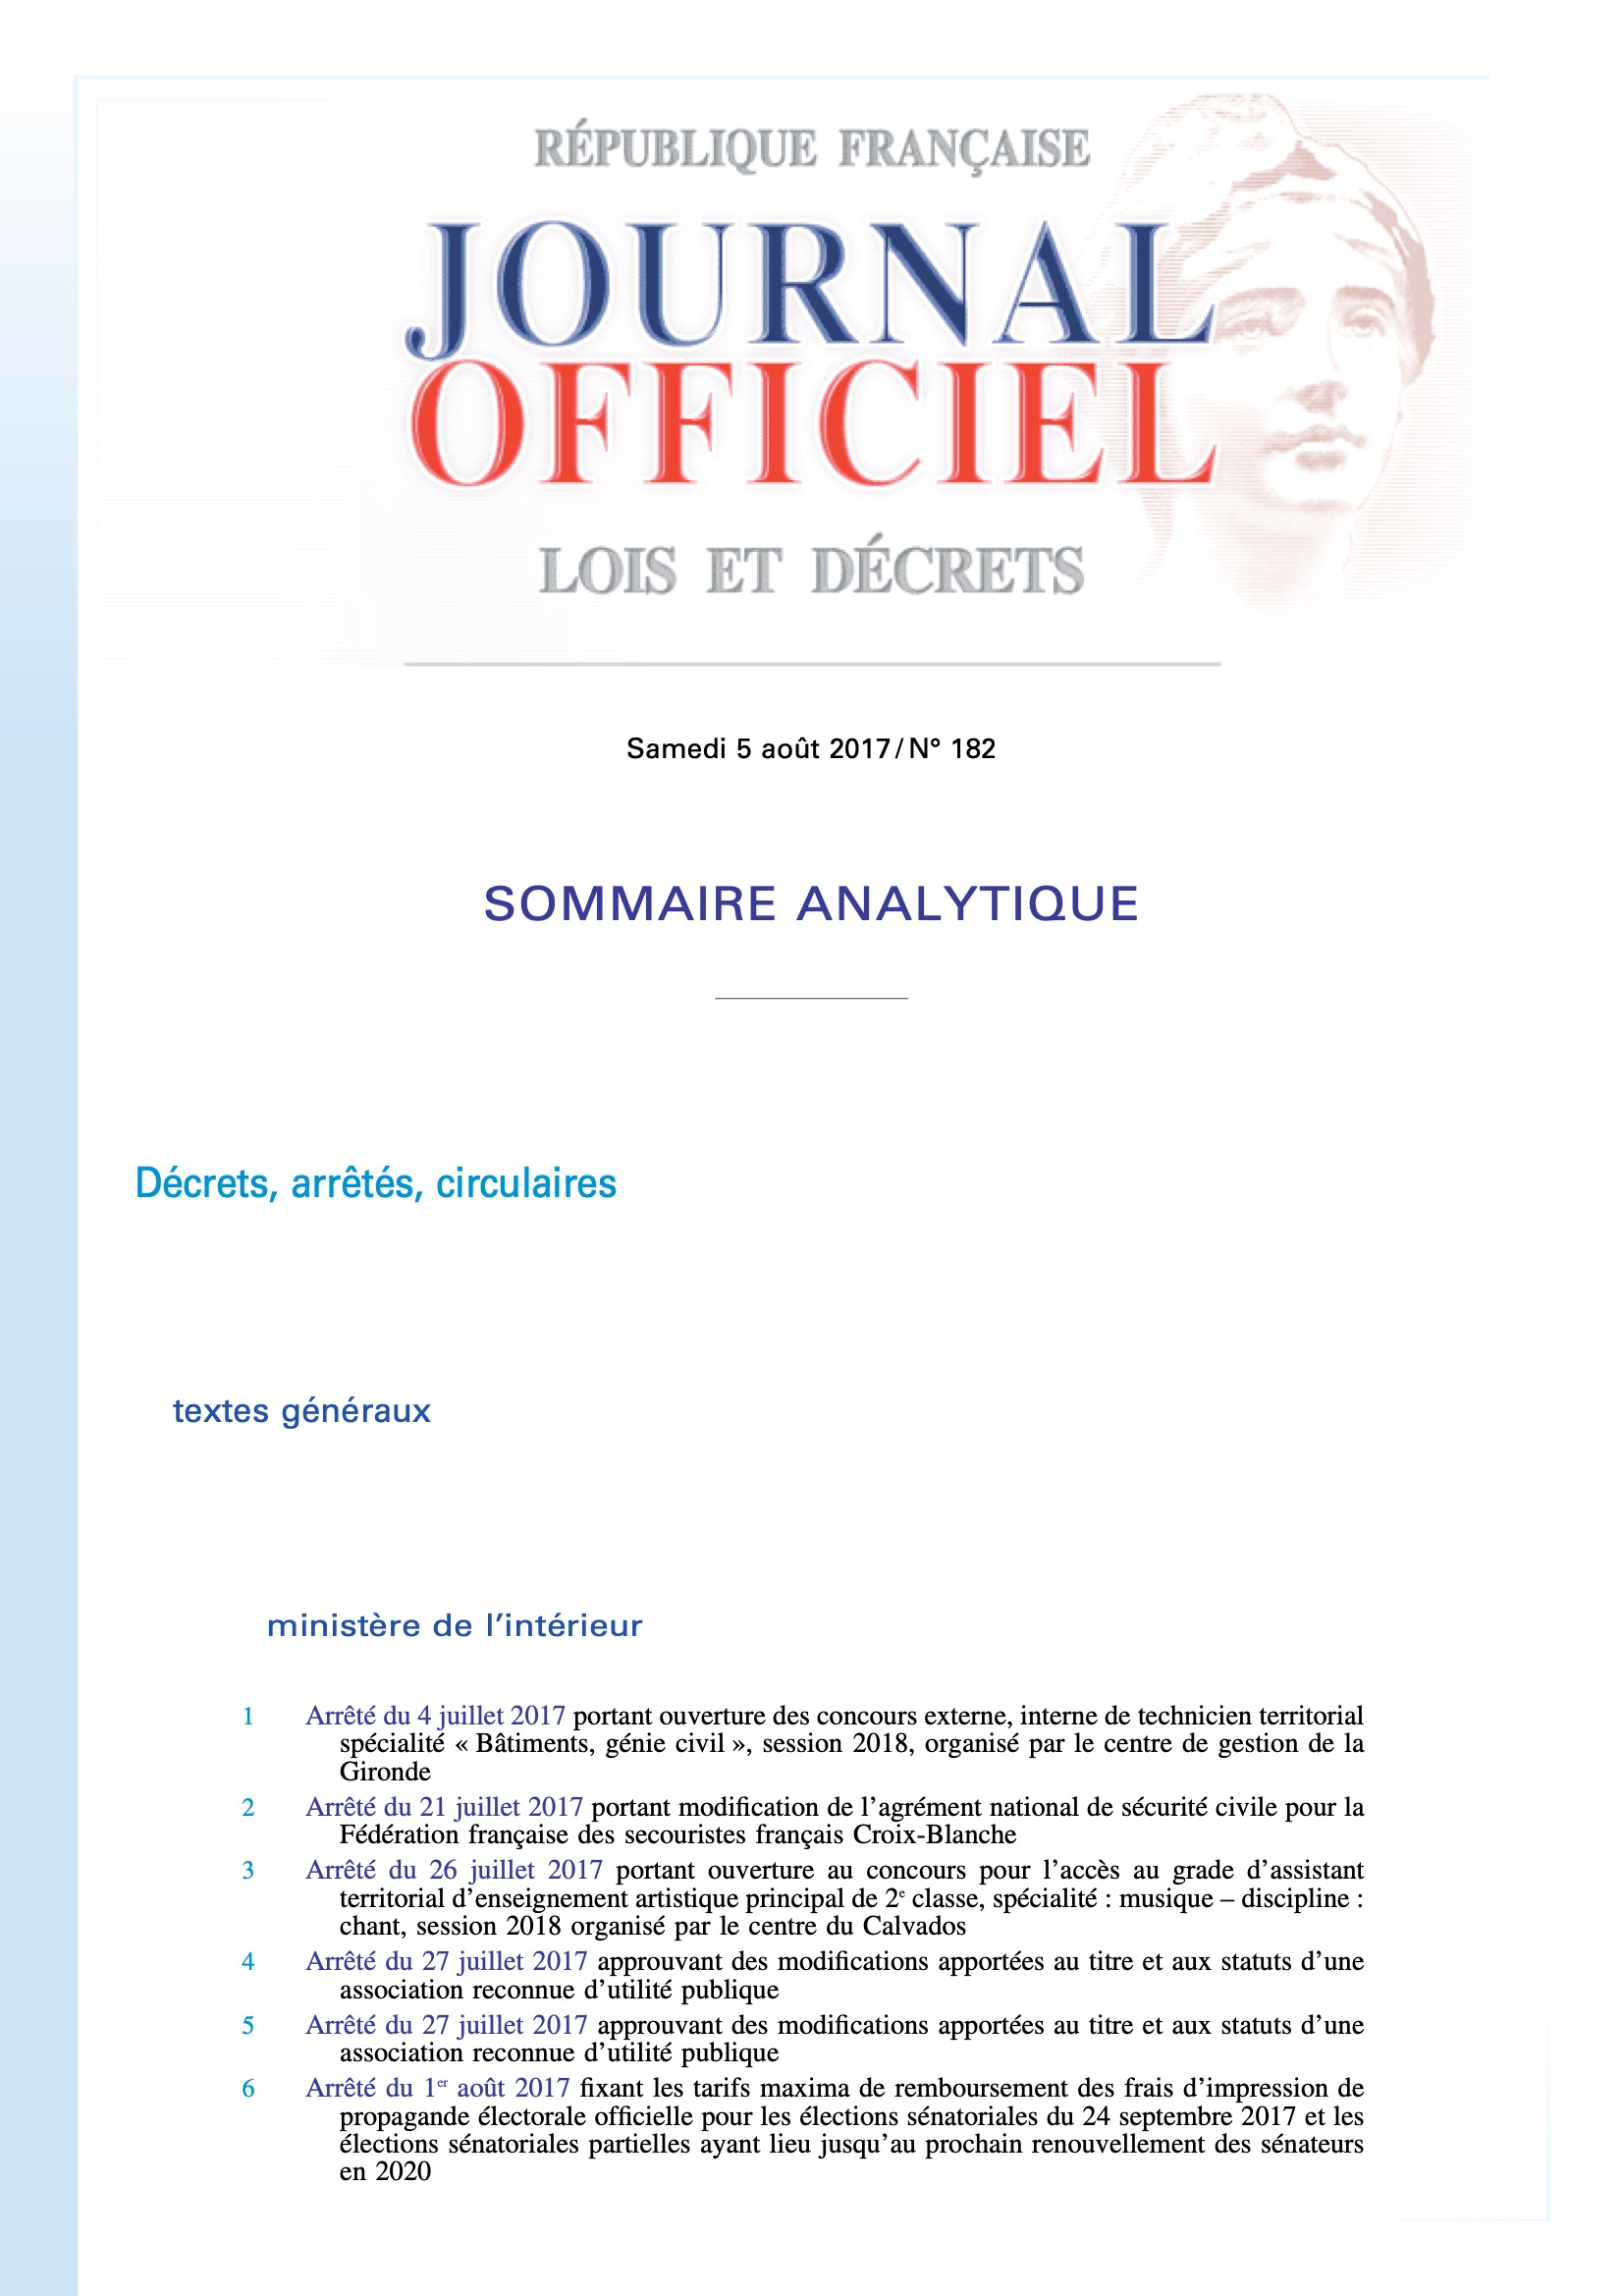GraphicZone: (1088, 85, 1434, 633)
MainZone-Head: (406, 116, 1236, 620), (473, 879, 1143, 930), (123, 1153, 631, 1218), (252, 1602, 650, 1649), (609, 729, 1015, 766), (155, 1383, 442, 1429)
MainZone-ListItem: (224, 2069, 1373, 2202), (210, 1690, 1377, 1788), (214, 1850, 1375, 1944), (214, 1785, 1375, 1851), (221, 2004, 1376, 2066), (216, 1942, 1375, 2003)
